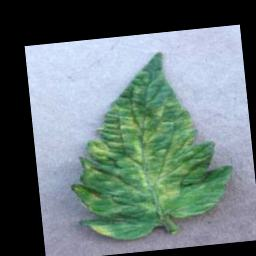Leaf_Mold: (103, 82, 205, 216), (85, 138, 110, 161), (89, 222, 115, 239)
